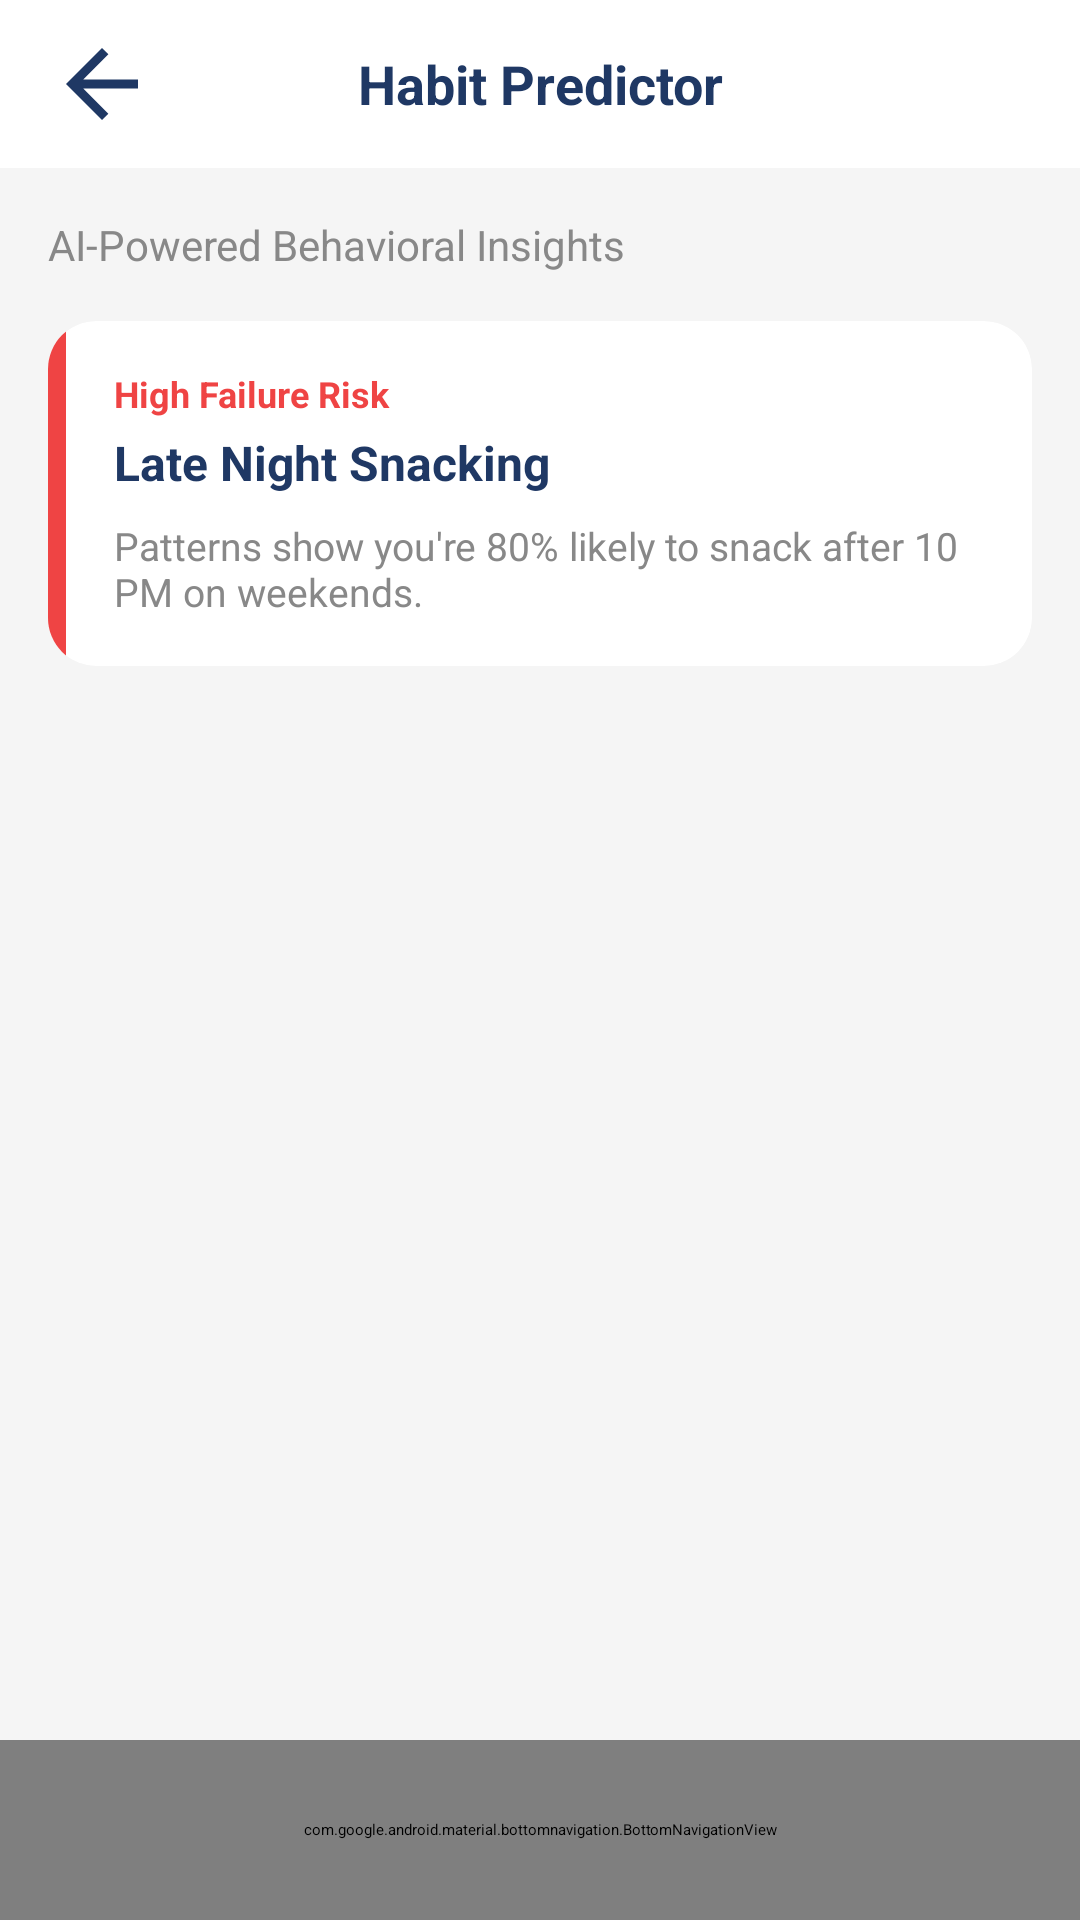

Screen size 1080*1920. Icon name, then its box in pixels as (x1, y1, x2, y2):
back arrow: (66, 48, 138, 120)
